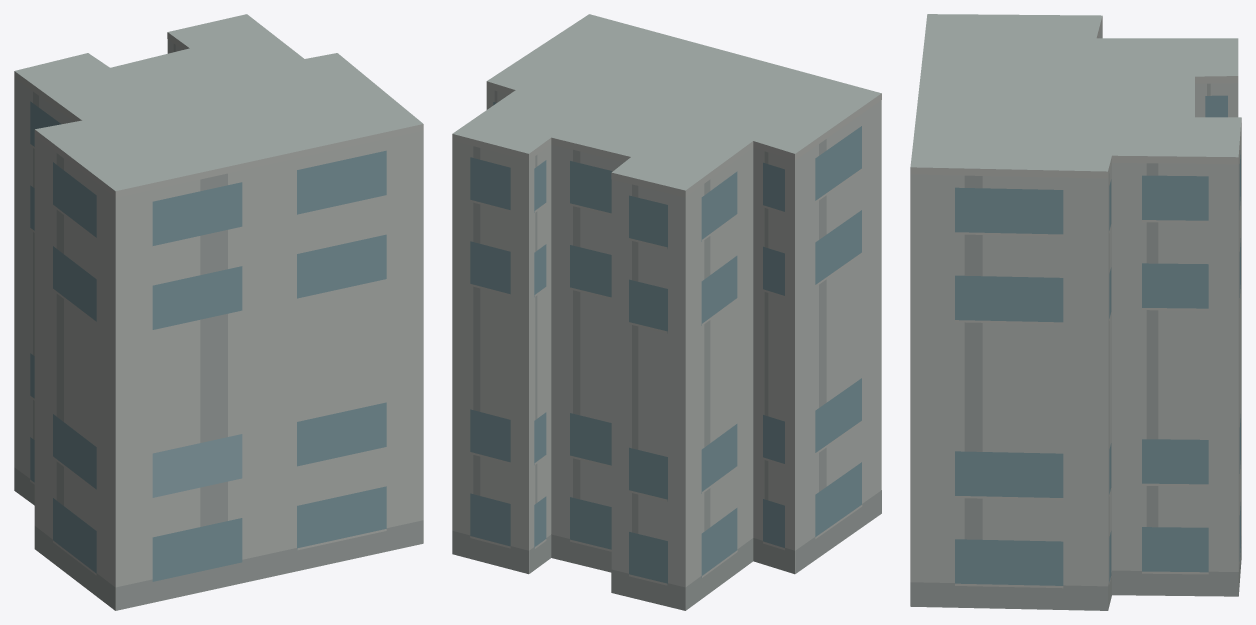
The model's file is survey-upis-32959503.glb.
3 views of the same model, side by side, from view 1: azimuth 30°, elevation 25°; view 2: azimuth 150°, elevation 25°; view 3: azimuth 270°, elevation 25° (orthographic). The views are drawn at different scales.
Parts seen in each view (by area): view 1: survey-upis-32959503.tmp; view 2: survey-upis-32959503.tmp; view 3: survey-upis-32959503.tmp.
Part boxes in pixels (x1,y1,x2,y2): survey-upis-32959503.tmp: (14,14,423,610); survey-upis-32959503.tmp: (452,14,881,610); survey-upis-32959503.tmp: (910,14,1241,610).
Size of the model in its own units: 11.54 by 15 by 10.26.
